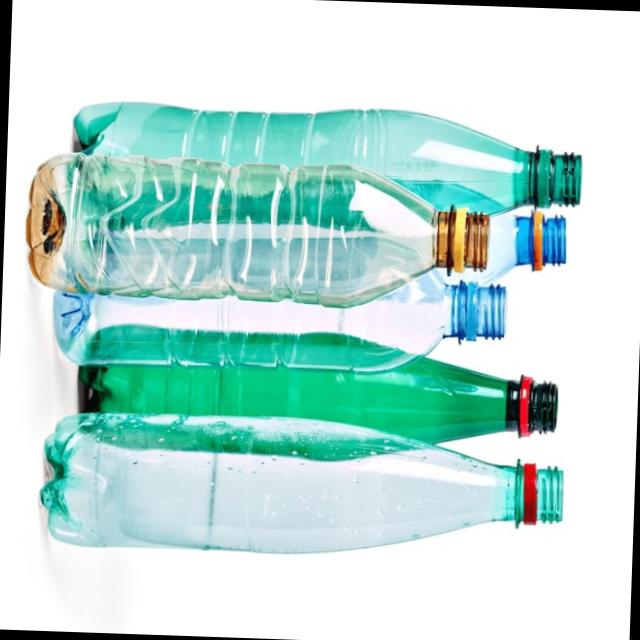plastic_bottle: (22, 138, 509, 321), (58, 87, 600, 251), (37, 403, 579, 567), (73, 318, 563, 484), (49, 255, 507, 383)
